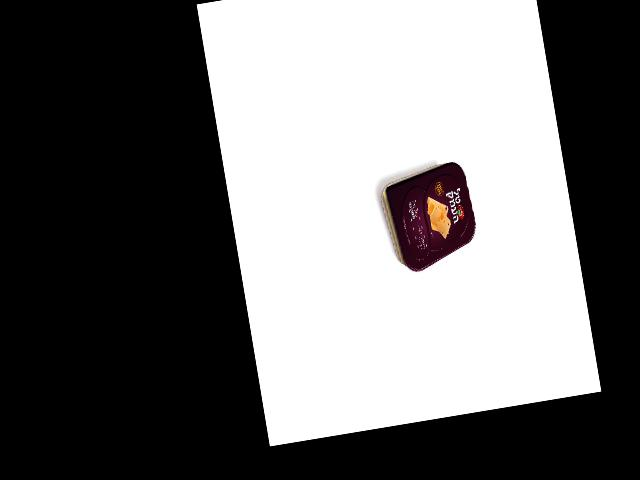cheese: (377, 159, 482, 275)
